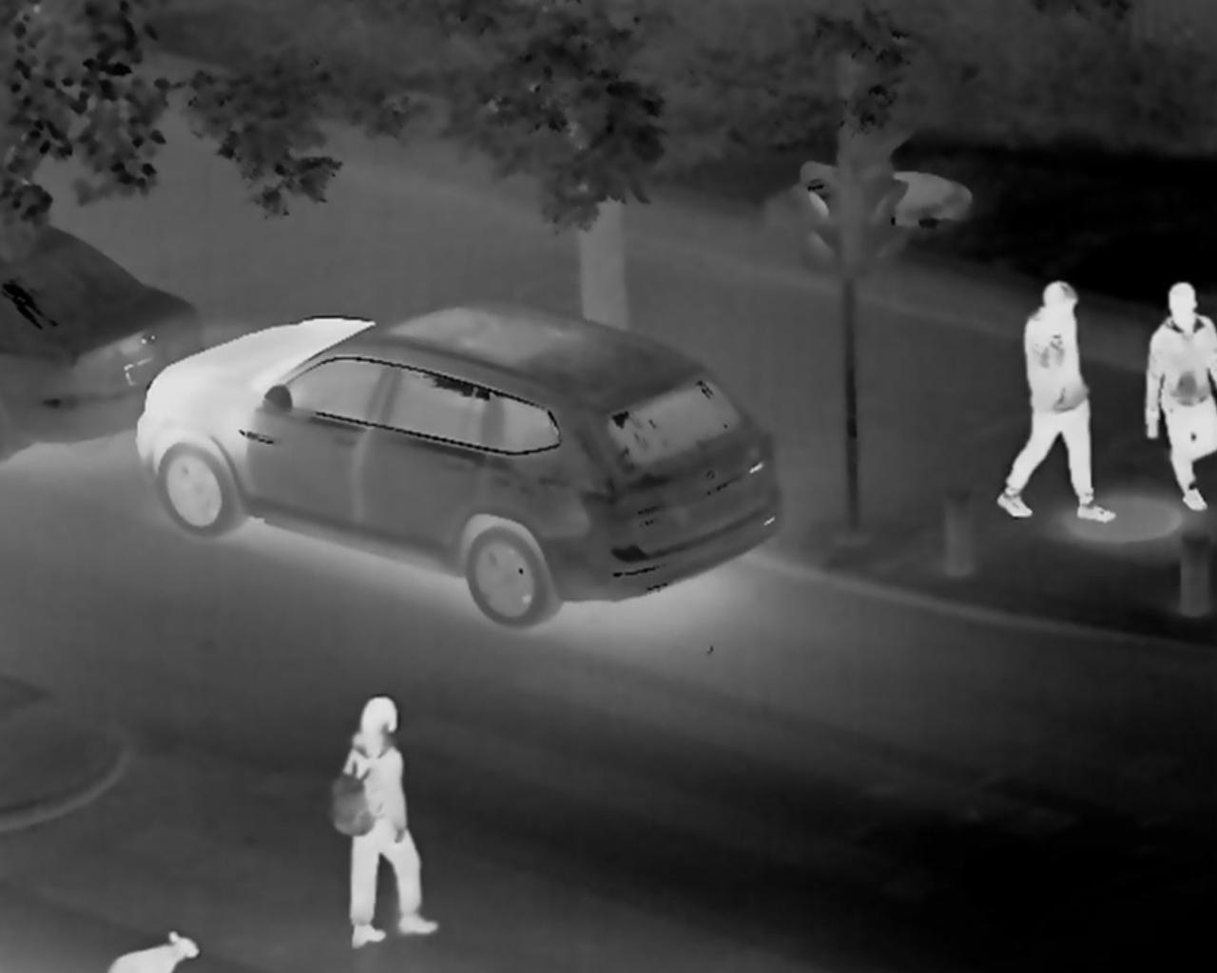person: (324, 689, 446, 947), (995, 270, 1115, 530), (1142, 272, 1217, 511)
